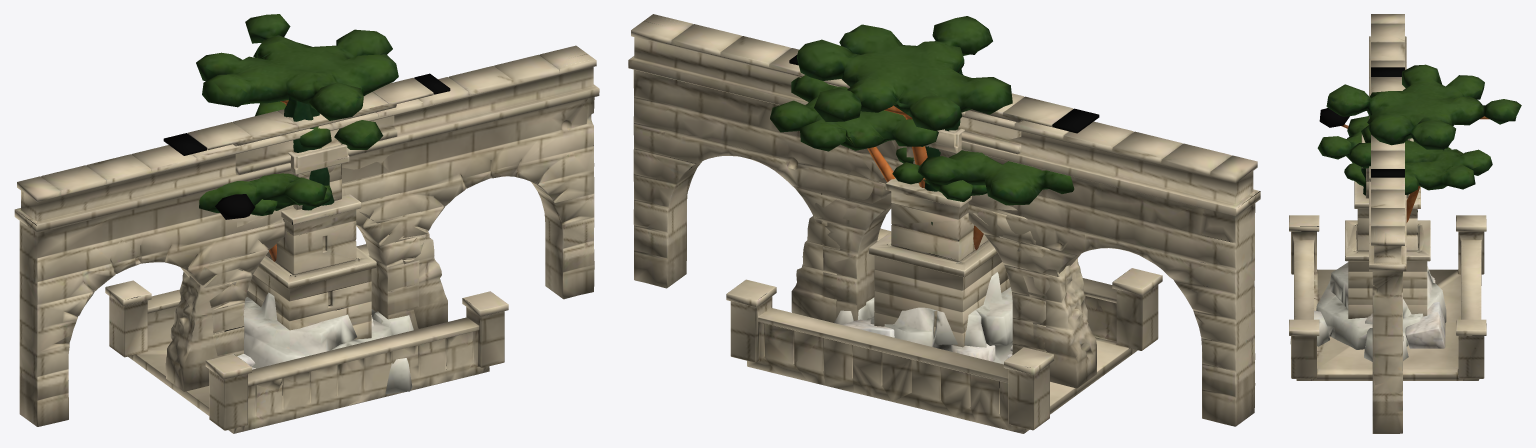
The model's file is classical_decor_coast.glb.
3 views of the same model, side by side, from view 1: azimuth 30°, elevation 25°; view 2: azimuth 150°, elevation 25°; view 3: azimuth 270°, elevation 25° (orthographic). The views are drawn at different scales.
Visible parts, largest first — view 1: Aqueduct_Long, Bridge, Aqueduct, Lighthouse, Pine_A, Rock_C, Pine_B, Cypress_A, Pine_C; view 2: Aqueduct_Long, Bridge, Pine_A, Aqueduct, Lighthouse, Pine_B, Rock_C, Pine_C, Blocks; view 3: Bridge, Aqueduct_Long, Pine_A, Pine_B, Lighthouse, Rock_C, Aqueduct, Blocks, Pine_C.
Boxes of the visible parts, box(x1,y1,x2,y2) form: Aqueduct_Long: box(14, 45, 599, 426); Bridge: box(105, 243, 508, 433); Aqueduct: box(163, 73, 450, 391); Lighthouse: box(245, 140, 376, 339); Pine_A: box(196, 14, 398, 120); Rock_C: box(243, 292, 413, 394); Pine_B: box(199, 101, 383, 261); Cypress_A: box(284, 96, 334, 210); Pine_C: box(251, 185, 331, 215); Aqueduct_Long: box(628, 14, 1260, 426); Bridge: box(726, 228, 1162, 433); Pine_A: box(797, 16, 1012, 188); Aqueduct: box(789, 55, 1099, 388); Lighthouse: box(869, 128, 1010, 347); Pine_B: box(770, 75, 1074, 250); Rock_C: box(834, 272, 1012, 364); Pine_C: box(892, 147, 987, 201); Blocks: box(841, 319, 995, 361); Bridge: box(1289, 215, 1486, 380); Aqueduct_Long: box(1369, 14, 1406, 433); Pine_A: box(1326, 64, 1521, 149); Pine_B: box(1317, 108, 1492, 222); Lighthouse: box(1345, 134, 1430, 318); Rock_C: box(1290, 262, 1446, 361); Aqueduct: box(1369, 67, 1404, 340); Blocks: box(1405, 276, 1445, 348); Pine_C: box(1344, 163, 1365, 186).
Size of the model in its own units: 7.45 by 3.79 by 3.2.
Materials: 2 (1 with a texture image).
